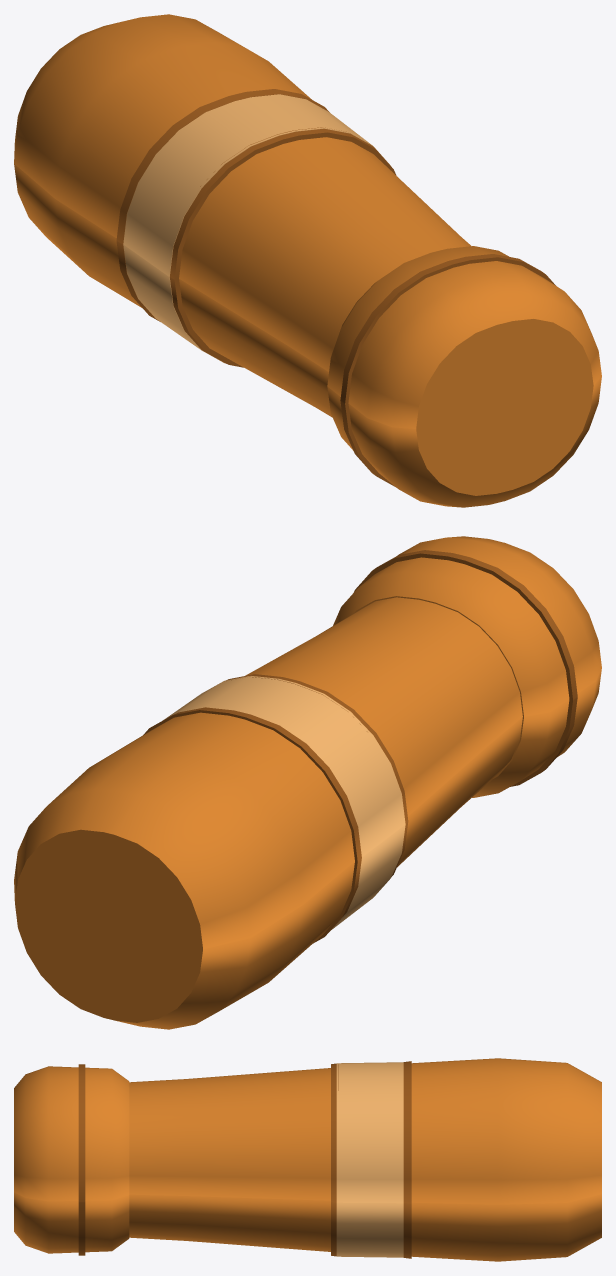
File: avant_bras.glb
The picture shows the model from 3 angles, top to bottom: view 1: azimuth 30°, elevation 25°; view 2: azimuth 150°, elevation 25°; view 3: azimuth 270°, elevation 25°; orthographic projection. The views are drawn at different scales.
Parts seen in each view (by area): view 1: avant_bras; view 2: avant_bras; view 3: avant_bras.
Part boxes in pixels (bbox=[...]): avant_bras: bbox=[14, 14, 601, 507]; avant_bras: bbox=[14, 536, 601, 1029]; avant_bras: bbox=[14, 1058, 601, 1261].
Size of the model in its own units: 0.092 by 0.086 by 0.255.
